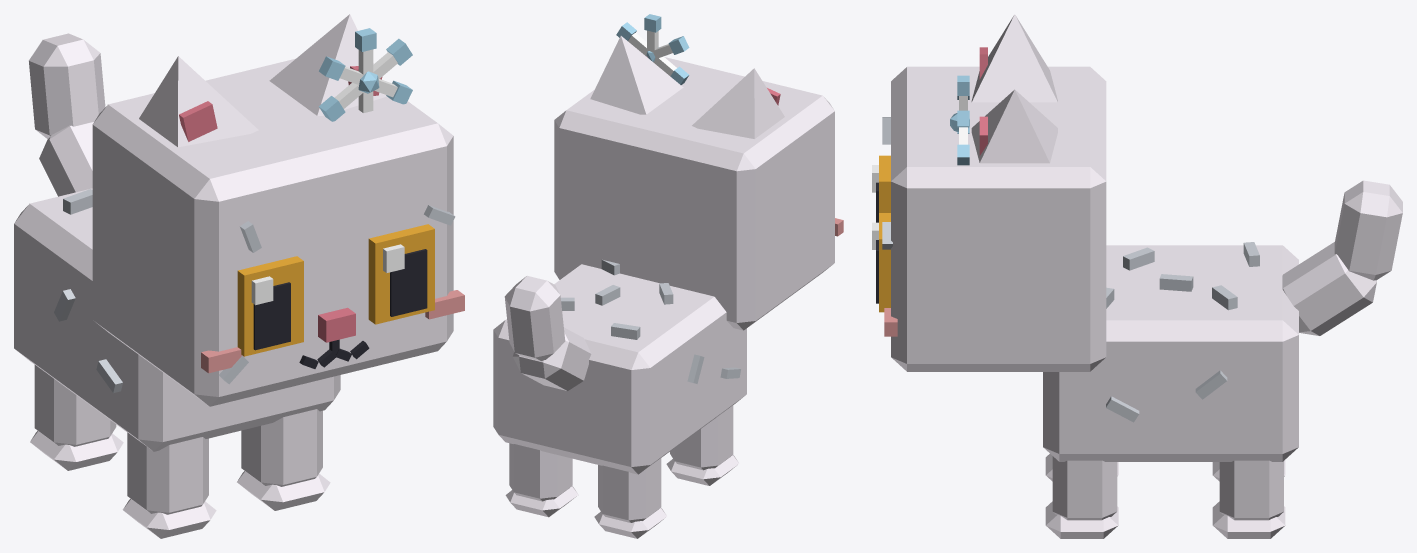
The model's file is CatCafe_Cat_Flurry.glb.
3 views of the same model, side by side, from view 1: azimuth 30°, elevation 25°; view 2: azimuth 150°, elevation 25°; view 3: azimuth 270°, elevation 25° (orthographic). The views are drawn at different scales.
Visible parts, largest first — view 1: CatCafe_Cat_Flurry_Head, CatCafe_Cat_Flurry_Body, CatCafe_Cat_Flurry_Tail, CatCafe_Cat_Flurry_LegF2, CatCafe_Cat_Flurry_LegF1, CatCafe_Cat_Flurry_Eye1, CatCafe_Cat_Flurry_Eye2, CatCafe_Cat_Flurry_LegB2, CatCafe_Cat_Flurry_EarR, CatCafe_Cat_Flurry_Prop, CatCafe_Cat_Flurry_EarL; view 2: CatCafe_Cat_Flurry_Head, CatCafe_Cat_Flurry_Body, CatCafe_Cat_Flurry_Tail, CatCafe_Cat_Flurry_LegB2, CatCafe_Cat_Flurry_EarL, CatCafe_Cat_Flurry_LegB1, CatCafe_Cat_Flurry_EarR, CatCafe_Cat_Flurry_LegF2, CatCafe_Cat_Flurry_Prop; view 3: CatCafe_Cat_Flurry_Head, CatCafe_Cat_Flurry_Body, CatCafe_Cat_Flurry_Tail, CatCafe_Cat_Flurry_LegF1, CatCafe_Cat_Flurry_LegB1, CatCafe_Cat_Flurry_EarL, CatCafe_Cat_Flurry_EarR, CatCafe_Cat_Flurry_Eye1, CatCafe_Cat_Flurry_Prop, CatCafe_Cat_Flurry_Eye2.
Boxes of the visible parts, bbox=[...] form: CatCafe_Cat_Flurry_Head: bbox=[92, 58, 464, 406]; CatCafe_Cat_Flurry_Body: bbox=[14, 188, 340, 451]; CatCafe_Cat_Flurry_Tail: bbox=[29, 33, 105, 196]; CatCafe_Cat_Flurry_LegF2: bbox=[123, 432, 216, 538]; CatCafe_Cat_Flurry_LegF1: bbox=[237, 409, 330, 510]; CatCafe_Cat_Flurry_Eye1: bbox=[368, 224, 434, 324]; CatCafe_Cat_Flurry_Eye2: bbox=[237, 256, 303, 356]; CatCafe_Cat_Flurry_LegB2: bbox=[30, 365, 123, 470]; CatCafe_Cat_Flurry_EarR: bbox=[139, 56, 258, 147]; CatCafe_Cat_Flurry_Prop: bbox=[319, 28, 412, 121]; CatCafe_Cat_Flurry_EarL: bbox=[269, 14, 386, 115]; CatCafe_Cat_Flurry_Head: bbox=[554, 57, 843, 330]; CatCafe_Cat_Flurry_Body: bbox=[493, 259, 746, 474]; CatCafe_Cat_Flurry_Tail: bbox=[504, 275, 591, 390]; CatCafe_Cat_Flurry_LegB2: bbox=[594, 458, 666, 538]; CatCafe_Cat_Flurry_EarL: bbox=[590, 36, 683, 114]; CatCafe_Cat_Flurry_LegB1: bbox=[505, 443, 578, 517]; CatCafe_Cat_Flurry_EarR: bbox=[692, 68, 784, 138]; CatCafe_Cat_Flurry_LegF2: bbox=[666, 405, 739, 485]; CatCafe_Cat_Flurry_Prop: bbox=[616, 14, 689, 84]; CatCafe_Cat_Flurry_Head: bbox=[882, 66, 1106, 371]; CatCafe_Cat_Flurry_Body: bbox=[1043, 242, 1298, 461]; CatCafe_Cat_Flurry_Tail: bbox=[1282, 180, 1402, 335]; CatCafe_Cat_Flurry_LegF1: bbox=[1045, 456, 1118, 538]; CatCafe_Cat_Flurry_LegB1: bbox=[1212, 460, 1285, 538]; CatCafe_Cat_Flurry_EarL: bbox=[971, 89, 1057, 163]; CatCafe_Cat_Flurry_EarR: bbox=[971, 14, 1057, 102]; CatCafe_Cat_Flurry_Eye1: bbox=[872, 213, 890, 312]; CatCafe_Cat_Flurry_Prop: bbox=[950, 75, 969, 165]; CatCafe_Cat_Flurry_Eye2: bbox=[872, 155, 890, 222].
Bounding box in the file's own units: 1 × 1.88 × 1.97.
Materials: 1 (1 with a texture image).
